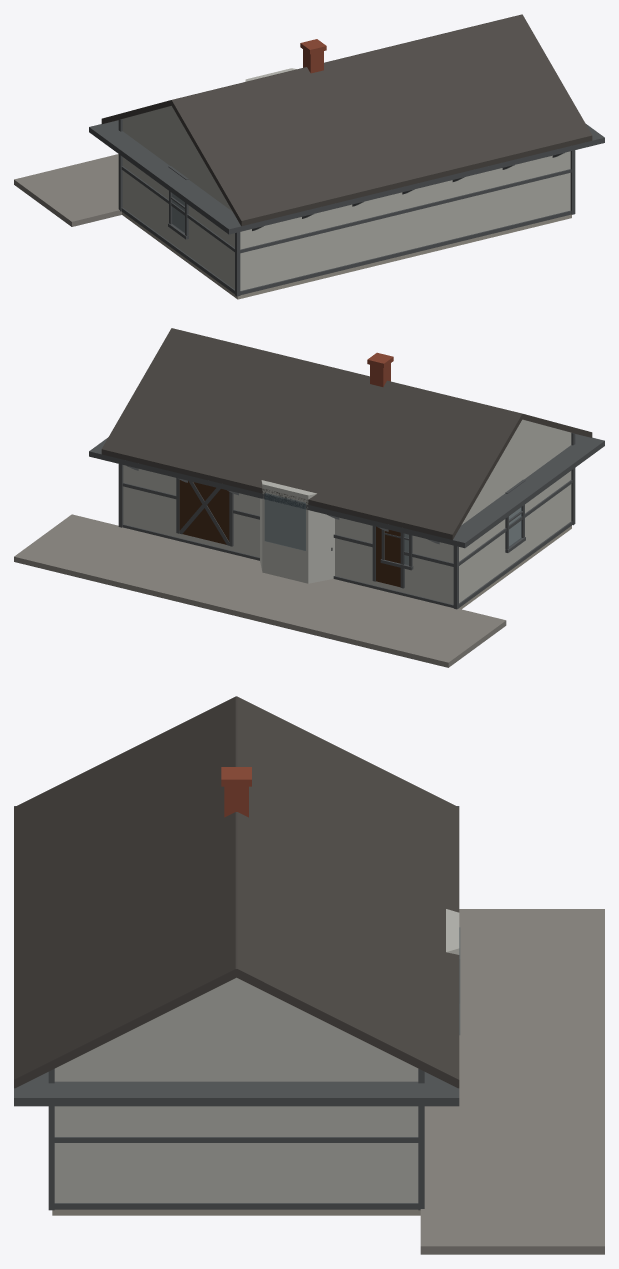
Rendered from Standard_04_Depot.glb.
The picture shows the model from 3 angles, top to bottom: view 1: azimuth 30°, elevation 25°; view 2: azimuth 150°, elevation 25°; view 3: azimuth 270°, elevation 25°; orthographic projection. The views are drawn at different scales.
Parts seen in each view (by area): view 1: roof, walls, trim, platform, foundation, chimney, sash; view 2: roof, platform, walls, trim, doors, glass, sash, chimney; view 3: roof, platform, walls, trim, foundation, chimney.
Part boxes in pixels (left/top/right/bottom): roof: left=101, top=14, right=592, bottom=226; walls: left=122, top=68, right=570, bottom=290; trim: left=89, top=119, right=604, bottom=296; platform: left=14, top=154, right=121, bottom=226; foundation: left=122, top=212, right=571, bottom=299; chimney: left=300, top=39, right=326, bottom=73; sash: left=168, top=166, right=188, bottom=239; roof: left=101, top=328, right=592, bottom=539; platform: left=14, top=514, right=506, bottom=667; walls: left=123, top=419, right=571, bottom=604; trim: left=89, top=432, right=604, bottom=609; doors: left=179, top=480, right=400, bottom=587; glass: left=265, top=493, right=521, bottom=564; sash: left=331, top=479, right=525, bottom=570; chimney: left=367, top=352, right=393, bottom=386; roof: left=14, top=696, right=459, bottom=1088; platform: left=420, top=909, right=604, bottom=1254; walls: left=54, top=909, right=459, bottom=1202; trim: left=14, top=806, right=459, bottom=1210; foundation: left=52, top=1209, right=420, bottom=1215; chimney: left=221, top=767, right=251, bottom=817.
Size of the model in its own units: 0.5465 by 0.2165 by 0.4047.
